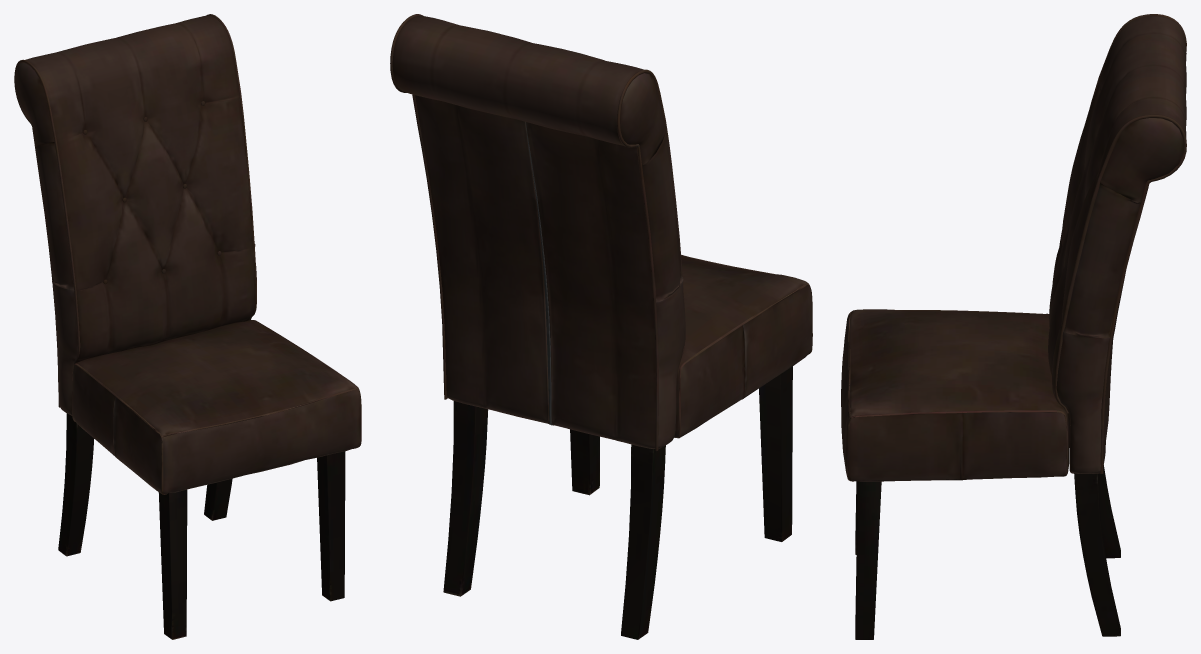
File: dining_chair_02.glb
3 renders of one model, left to right at view 1: azimuth 30°, elevation 25°; view 2: azimuth 150°, elevation 25°; view 3: azimuth 270°, elevation 25°, orthographic. The views are drawn at different scales.
Parts seen in each view (by area): view 1: dining_chair_02; view 2: dining_chair_02; view 3: dining_chair_02.
Part boxes in pixels (bbox=[...]): dining_chair_02: bbox=[14, 14, 361, 639]; dining_chair_02: bbox=[390, 14, 812, 639]; dining_chair_02: bbox=[841, 14, 1186, 639].
Bounding box in the file's own units: 0.4336 × 0.9733 × 0.5764.
1 material, 1 textured.
